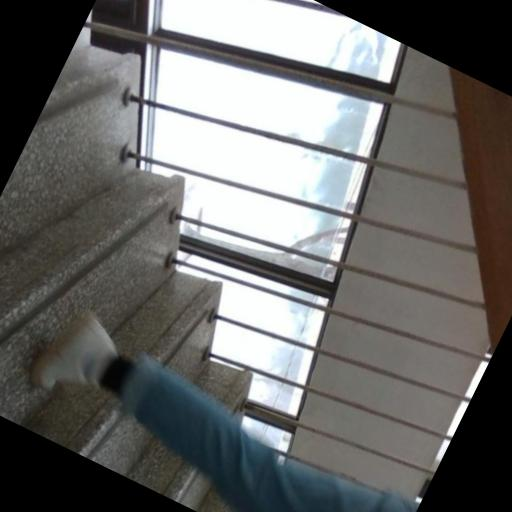stairs: (0, 47, 250, 511)
